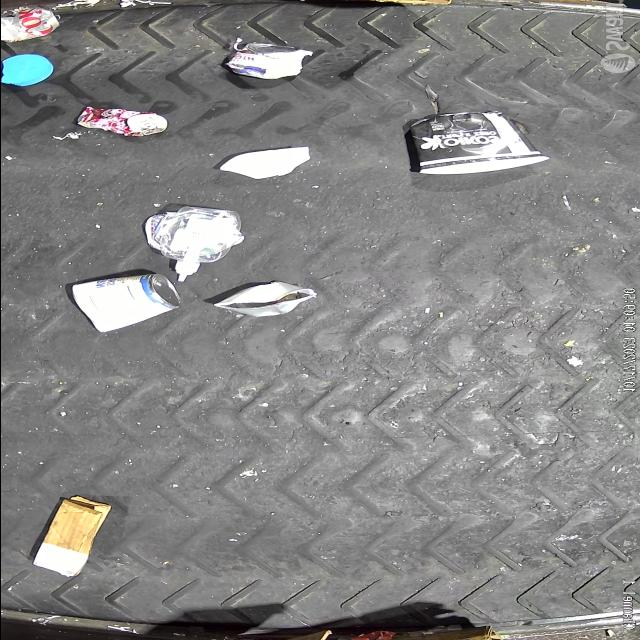can: (69, 272, 182, 334), (213, 281, 317, 317), (76, 105, 168, 136), (228, 44, 306, 78), (0, 4, 62, 42)
